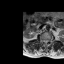CCS_normal: (45, 37, 46, 45)
LFS_normal: (48, 37, 50, 43)
LLS_normal: (46, 38, 48, 44)
RFS_normal: (41, 37, 43, 44)
RLS_normal: (43, 38, 45, 44)
